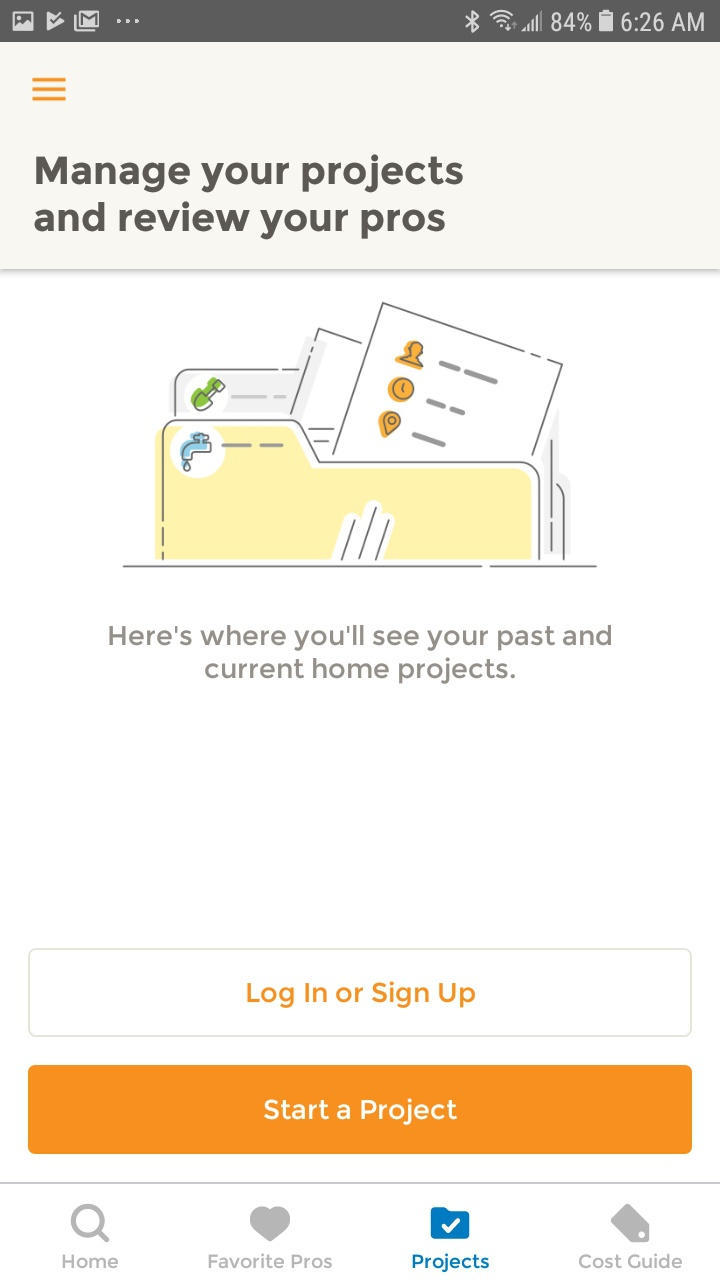Icon: (610, 1203, 650, 1243), (71, 1203, 111, 1243), (250, 1205, 291, 1242), (430, 1206, 470, 1240), (32, 77, 68, 103)
Image: (123, 302, 598, 569)
Text: (34, 154, 464, 240), (109, 625, 612, 685), (209, 1252, 333, 1269), (578, 1252, 683, 1269), (412, 1252, 490, 1273), (63, 1253, 119, 1269)
TextButton: (28, 1064, 693, 1155), (29, 948, 692, 1038)
UpperTaskBar: (1, 1, 720, 43)
